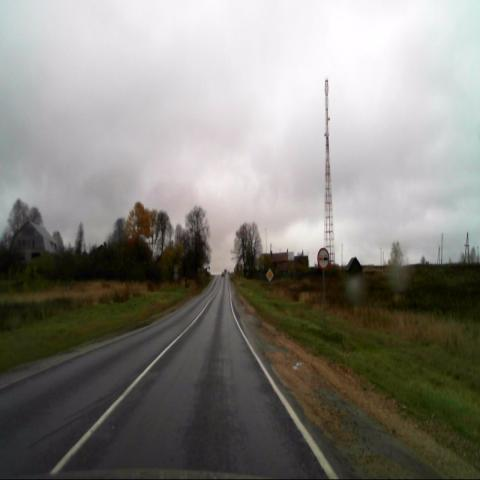2_1: (266, 267, 274, 282)
3_20: (317, 246, 330, 271)
